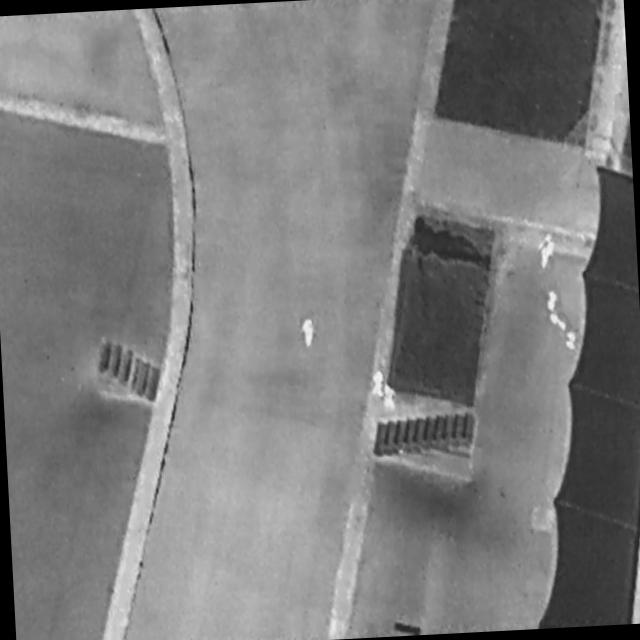person: (536, 229, 559, 274), (370, 368, 387, 400), (303, 315, 316, 351), (383, 384, 399, 412)
